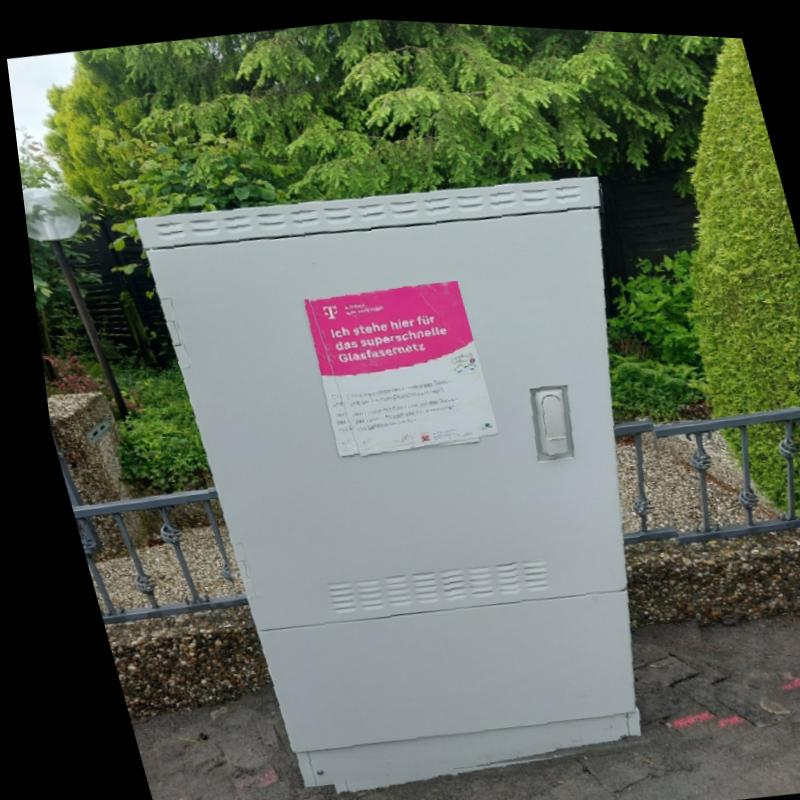NT-Gehause: (121, 141, 743, 800)
Steaker: (299, 270, 493, 462)
